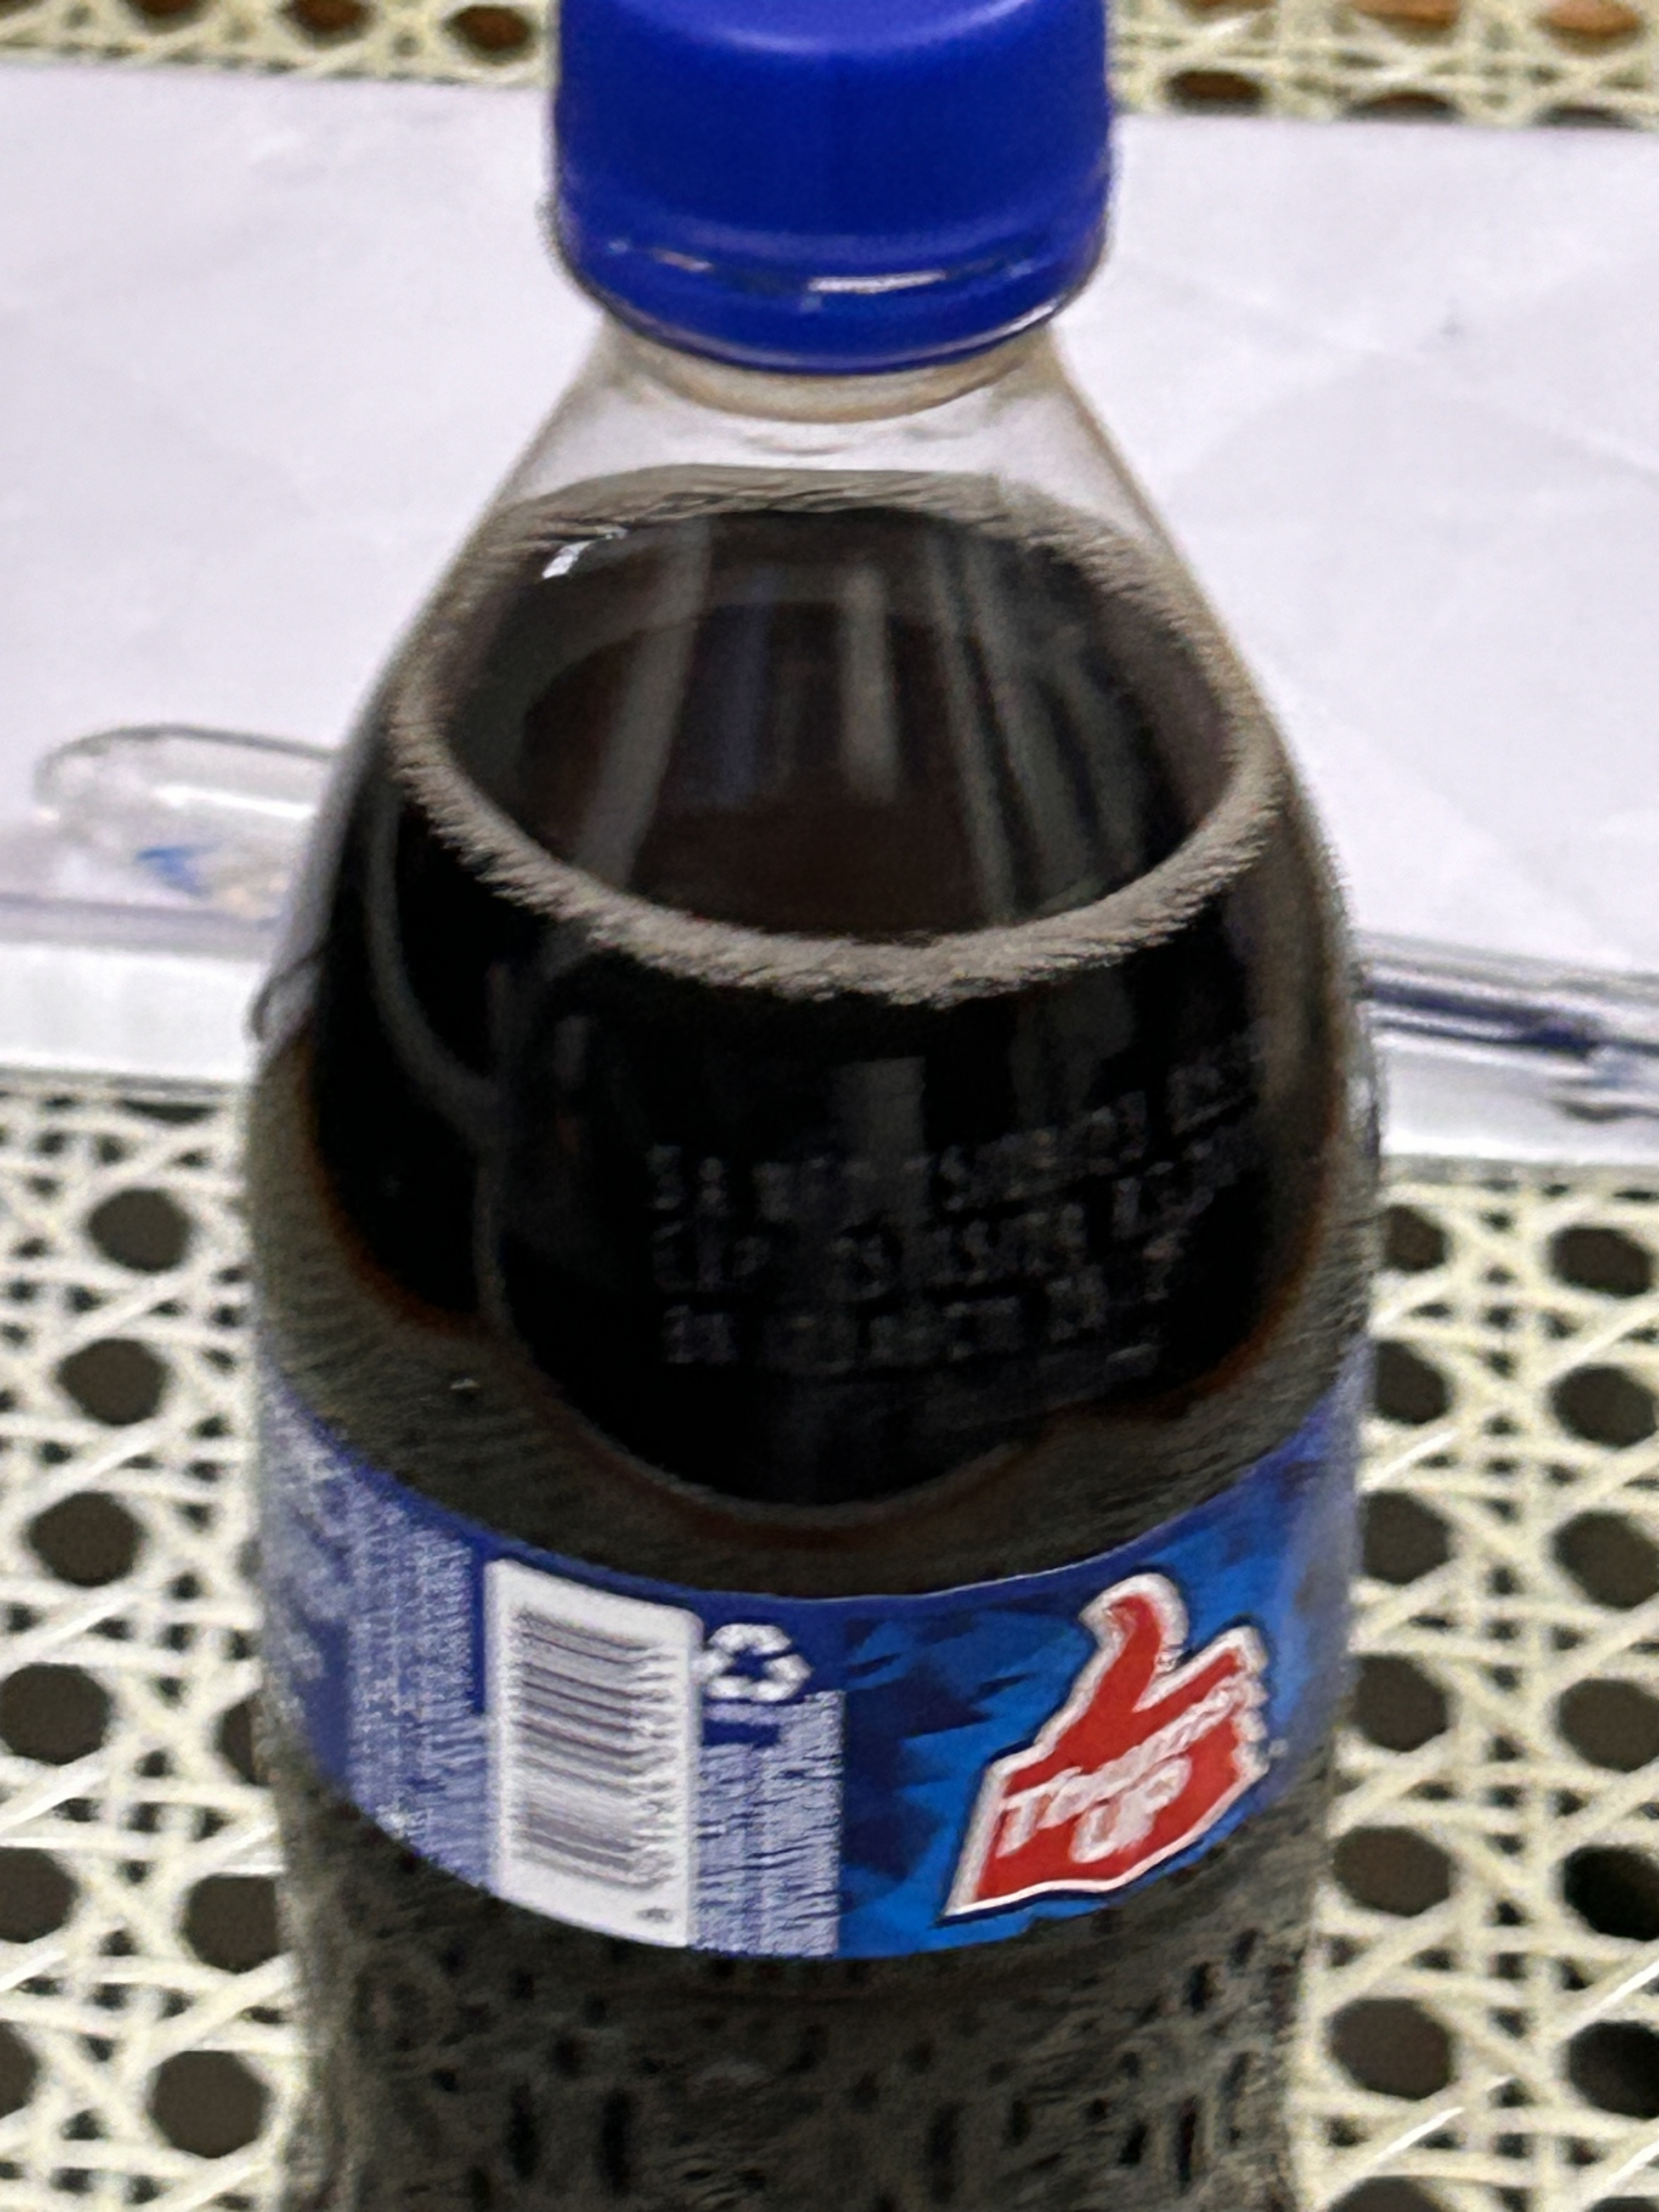unsealed: (493, 3, 1155, 404)
